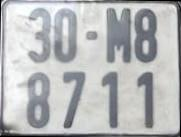-: (86, 31, 97, 40)
0: (54, 9, 77, 63)
1: (137, 72, 154, 128), (102, 72, 118, 127)
3: (29, 8, 50, 63)
7: (63, 72, 85, 128)
8: (134, 9, 158, 62), (27, 73, 50, 127)
M: (107, 8, 130, 62)
